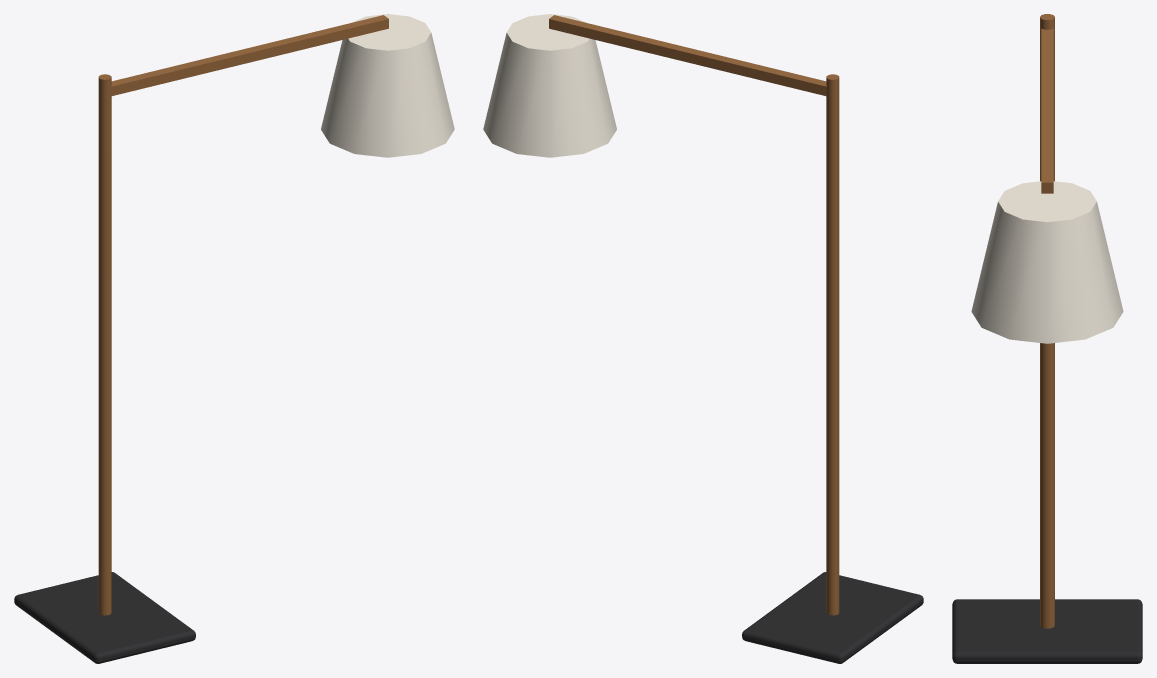
File: floorlamp-lite.glb
3 views of the same model, side by side, from view 1: azimuth 30°, elevation 25°; view 2: azimuth 150°, elevation 25°; view 3: azimuth 270°, elevation 25° (orthographic). The views are drawn at different scales.
Parts seen in each view (by area): view 1: material-3-lit, material-1-metal, material-0-base; view 2: material-3-lit, material-1-metal, material-0-base; view 3: material-3-lit, material-0-base, material-1-metal.
Boxes of the visible parts, bbox=[...] form: material-3-lit: bbox=[321, 14, 454, 157]; material-1-metal: bbox=[98, 15, 388, 615]; material-0-base: bbox=[14, 572, 195, 663]; material-3-lit: bbox=[483, 14, 616, 157]; material-1-metal: bbox=[549, 15, 839, 615]; material-0-base: bbox=[742, 572, 923, 663]; material-3-lit: bbox=[971, 181, 1123, 343]; material-0-base: bbox=[952, 599, 1142, 663]; material-1-metal: bbox=[1040, 14, 1054, 628].
Bounding box in the file's own units: 1.35 × 1.8 × 0.5.
